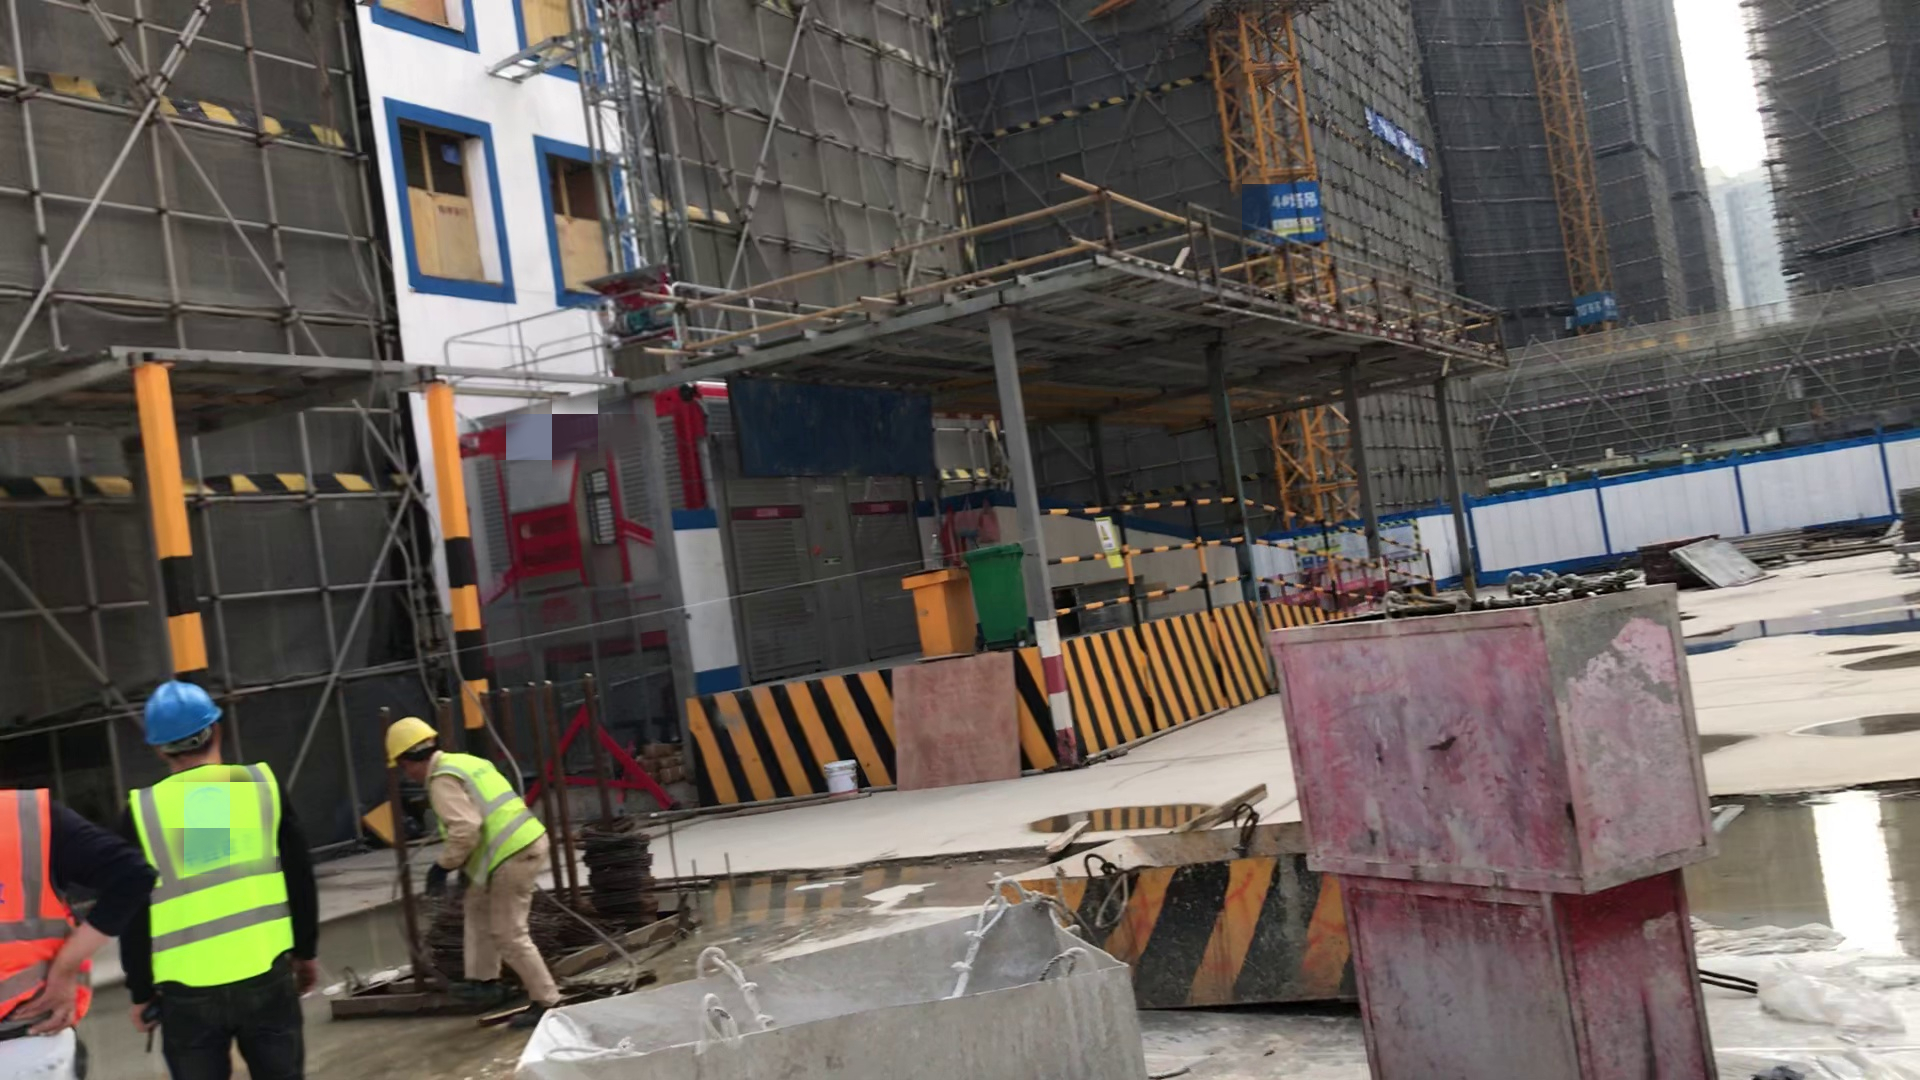board: (1641, 539, 1754, 597)
fence: (1013, 479, 1467, 673)
helmet: (131, 672, 240, 744), (385, 722, 441, 769)
hopper: (461, 898, 1157, 1074), (1021, 844, 1365, 1018)
person: (115, 675, 326, 1080), (375, 707, 571, 1037), (5, 784, 163, 1080)
slogan: (1351, 88, 1442, 174)
vest: (124, 772, 306, 994), (1, 790, 91, 1032), (432, 750, 551, 892)
